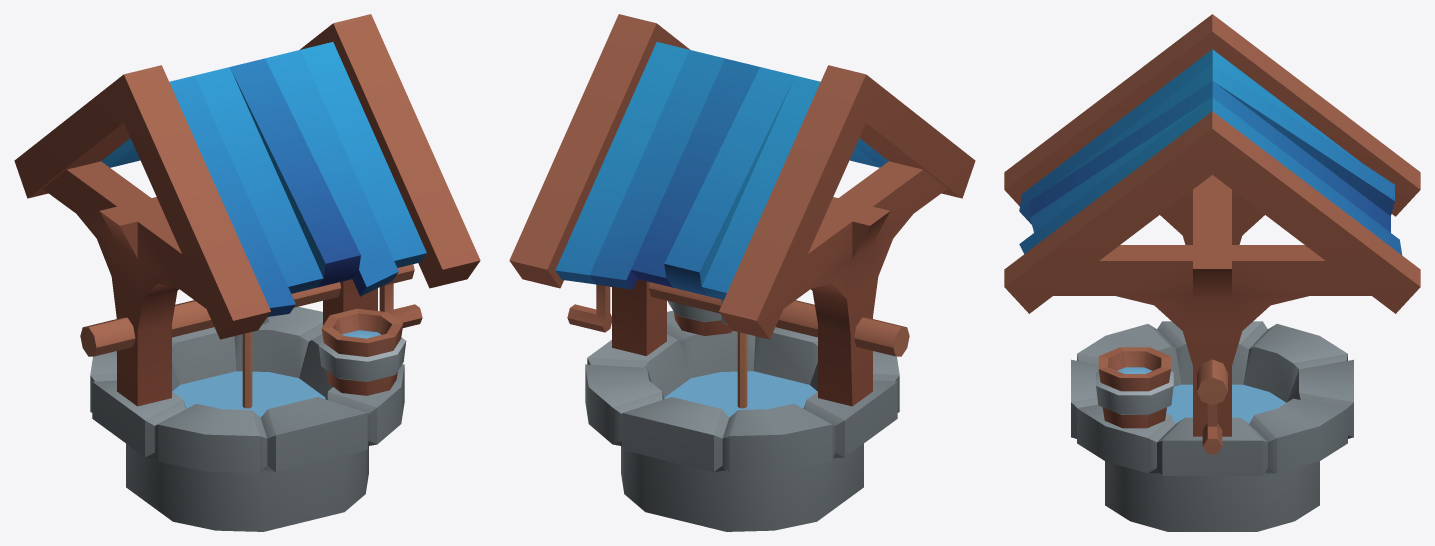
Rendered from well.glb.
The picture shows the model from 3 angles, left to right: view 1: azimuth 30°, elevation 25°; view 2: azimuth 150°, elevation 25°; view 3: azimuth 270°, elevation 25°; orthographic projection. The views are drawn at different scales.
Visible parts, largest first — view 1: building_well_blue; view 2: building_well_blue; view 3: building_well_blue.
Boxes of the visible parts, x1,y1,x2,y2 form: building_well_blue: [14, 14, 480, 531]; building_well_blue: [509, 14, 975, 531]; building_well_blue: [1004, 14, 1420, 531].
Bounding box in the file's own units: 0.6518 × 0.826 × 0.7507.
Materials: 1 (1 with a texture image).
